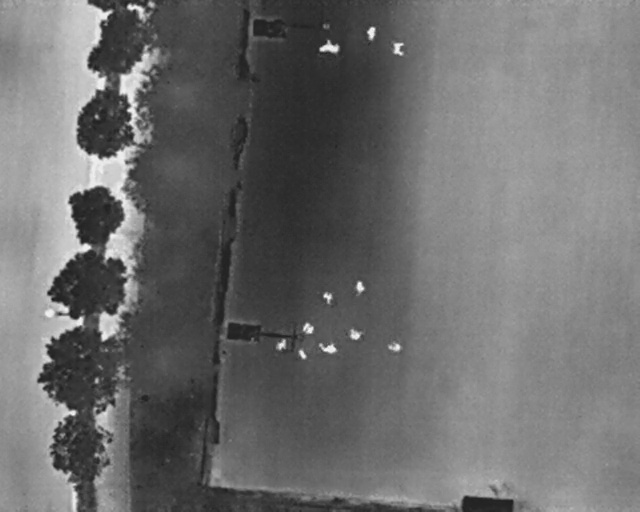Person: (316, 337, 341, 357), (271, 335, 292, 356), (317, 38, 341, 55), (294, 346, 310, 363), (364, 24, 378, 43), (392, 42, 406, 57), (386, 340, 402, 353), (353, 280, 366, 295), (348, 328, 363, 341), (301, 322, 315, 335), (321, 292, 333, 304)
